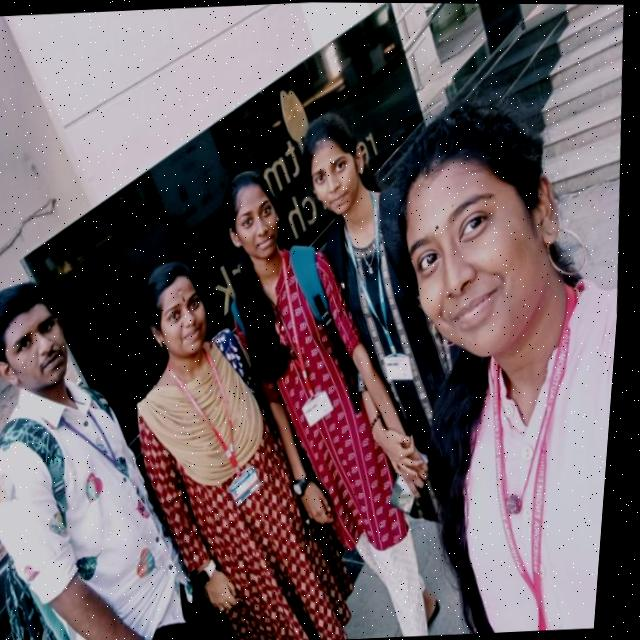id_card: (241, 264, 347, 432), (328, 217, 429, 384), (172, 355, 278, 505)
